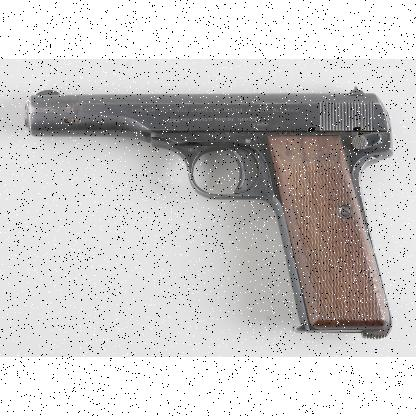gun: (21, 84, 392, 338)
